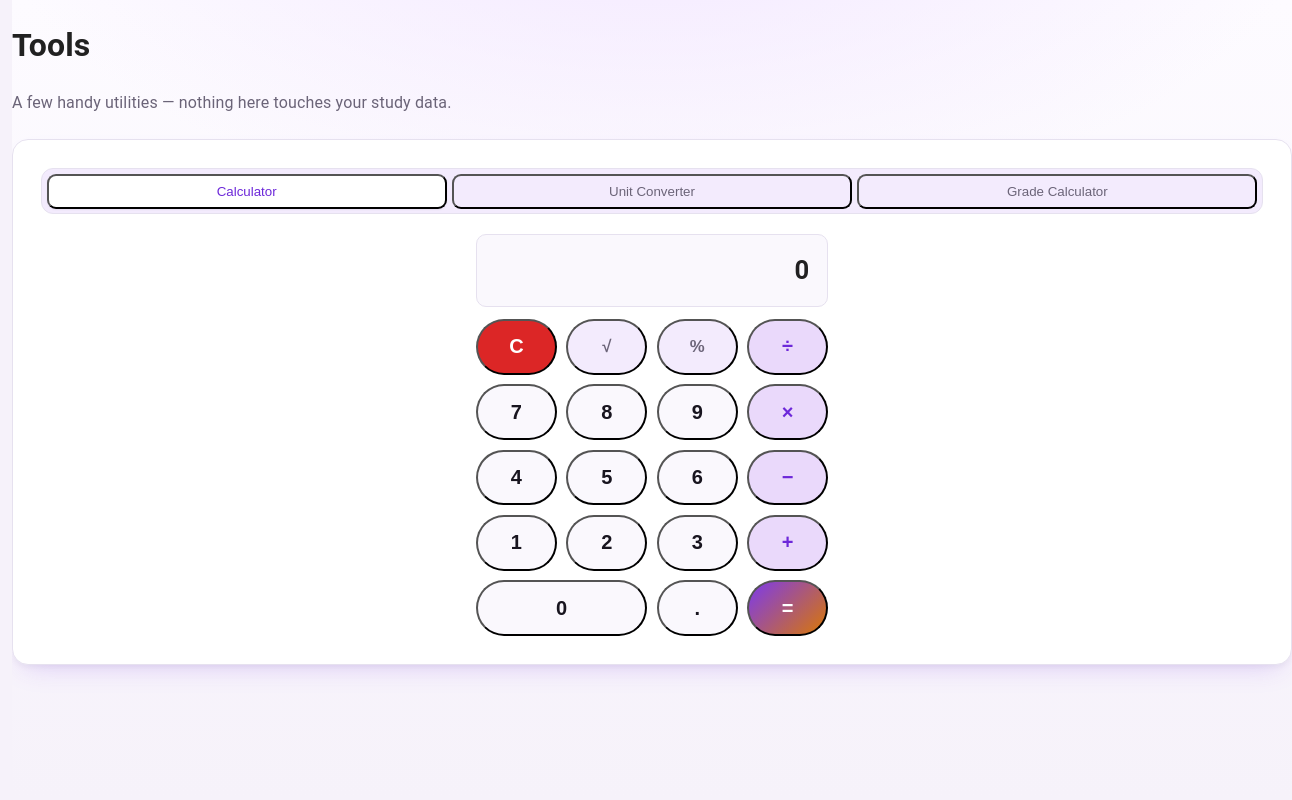
Test: ToolsPage › calculator: clear resets the display
This screenshot has width=1292, height=800.
Click the button "5": (607,478) [566,450,647,505]
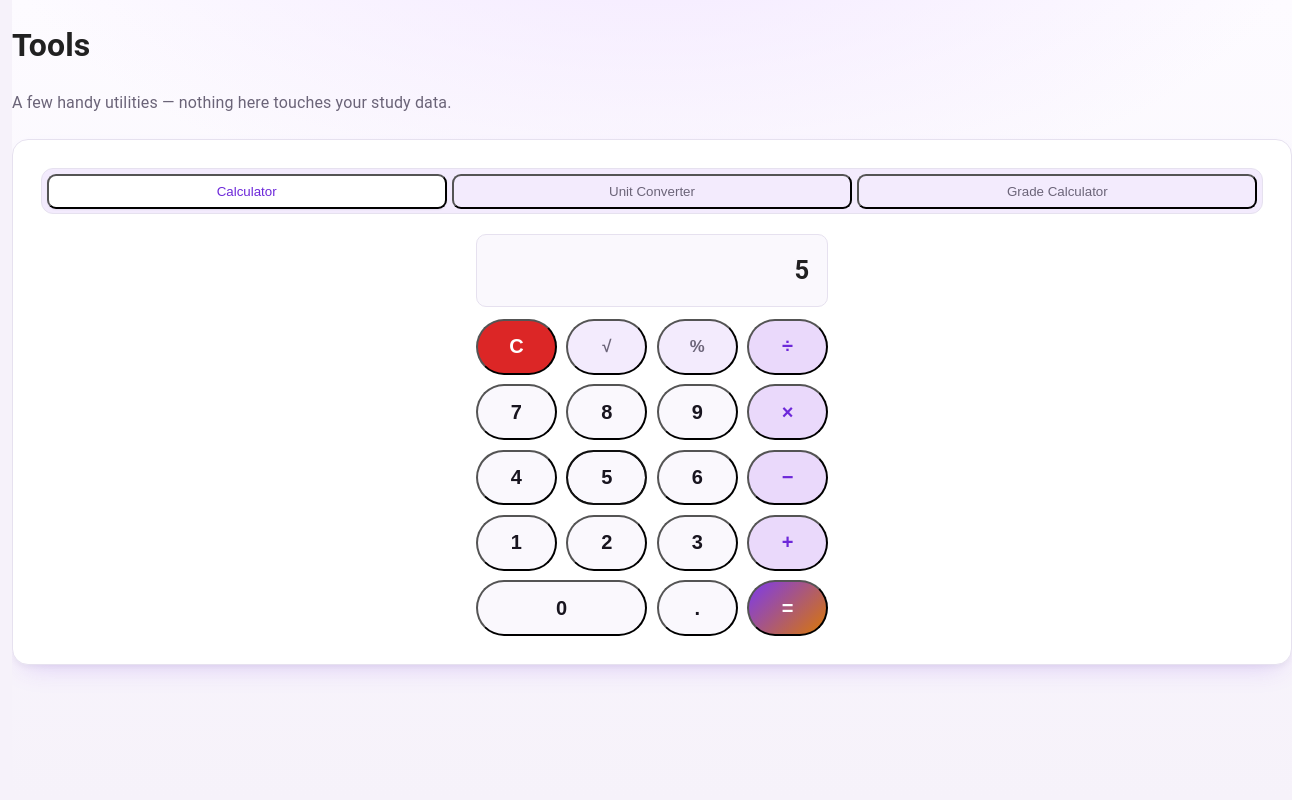
Click the button "C": (516,347) [476,319,557,375]
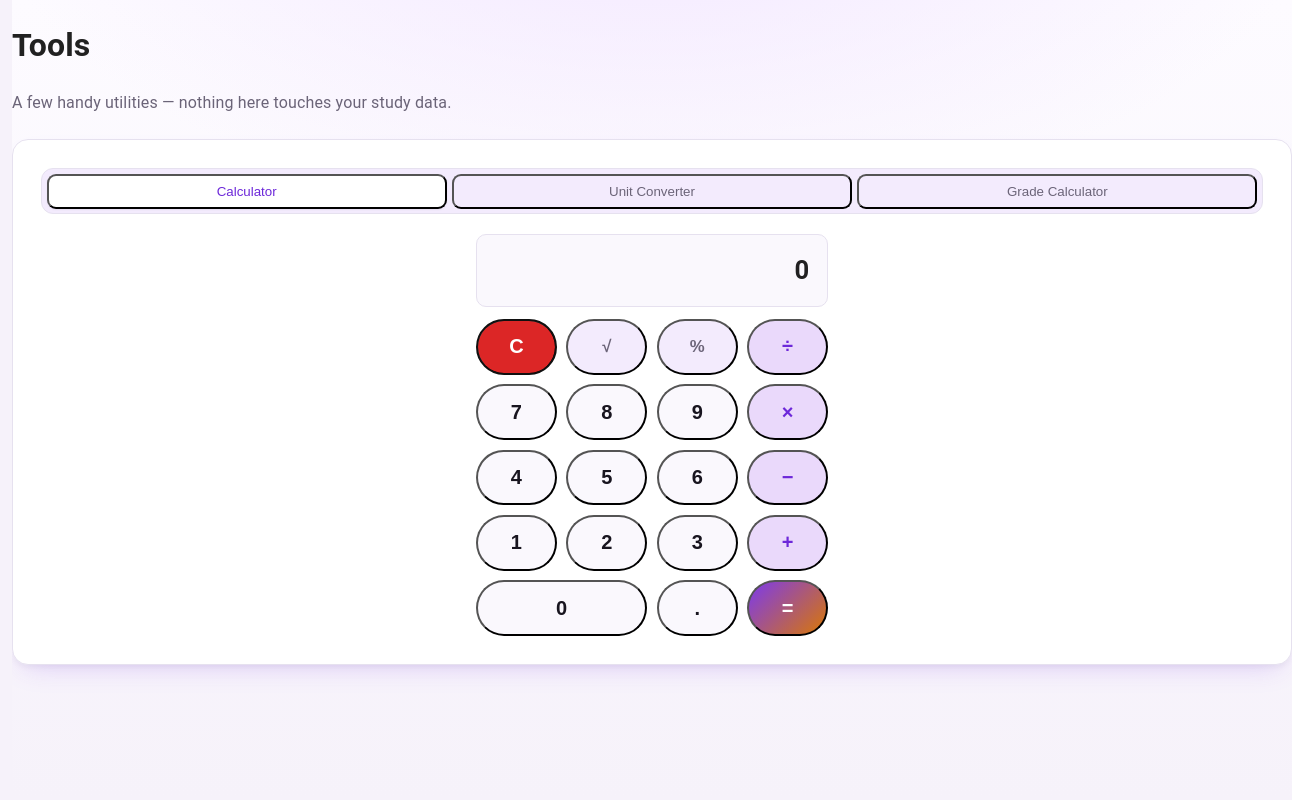
Expected: the text with class "calculator-display" reads "0", [795,256,809,286]
